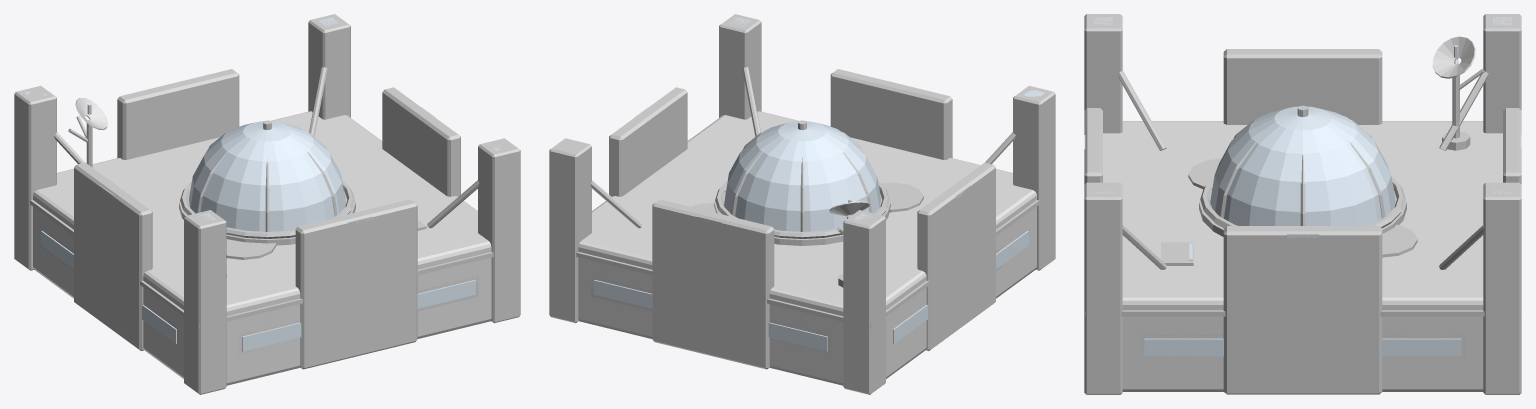
File: SM_StationModule_ScienceLab_01.fbx
3 views of the same model, side by side, from view 1: azimuth 30°, elevation 25°; view 2: azimuth 150°, elevation 25°; view 3: azimuth 270°, elevation 25° (orthographic). The views are drawn at different scales.
Visible parts, largest first — view 1: SM_StationModule_ScienceLab_01; view 2: SM_StationModule_ScienceLab_01; view 3: SM_StationModule_ScienceLab_01.
Part boxes in pixels (box(x1,y1,x2,y2)): SM_StationModule_ScienceLab_01: box(14, 14, 520, 394); SM_StationModule_ScienceLab_01: box(549, 14, 1055, 394); SM_StationModule_ScienceLab_01: box(1084, 14, 1521, 394).
Size of what is drawn, in the model's own units: 800 by 800 by 400.
